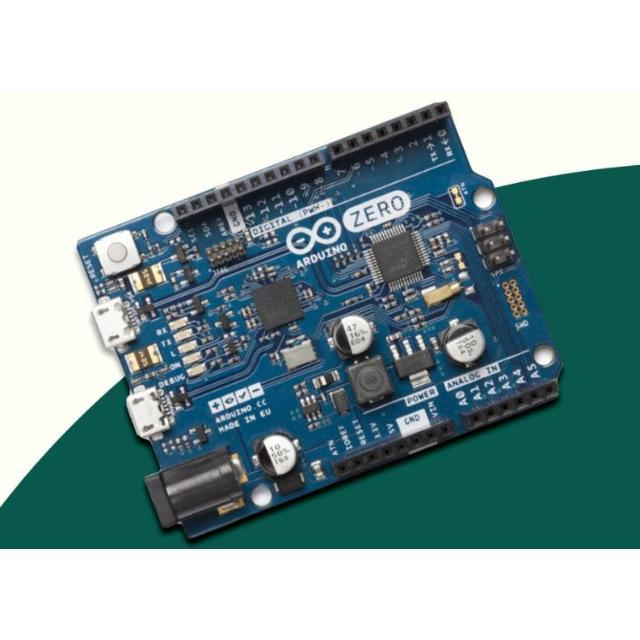Arduino-Zero: (80, 104, 562, 540)
